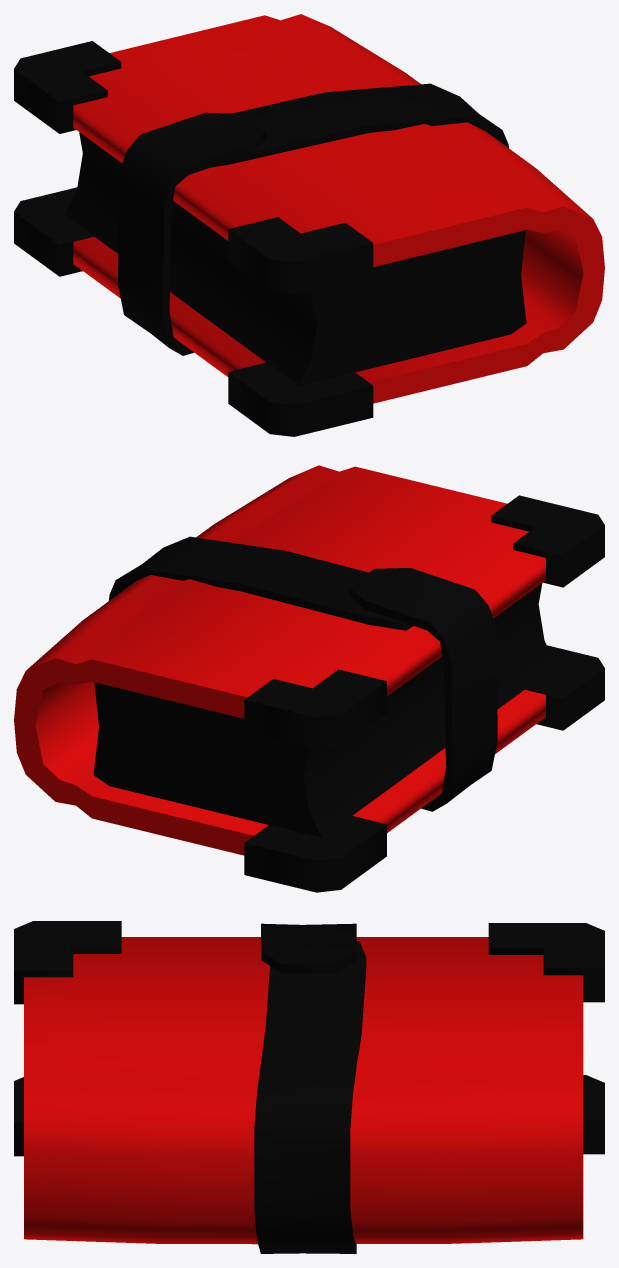
Rendered from Book_D.fbx.
3 views of the same model, one above another, from view 1: azimuth 30°, elevation 25°; view 2: azimuth 150°, elevation 25°; view 3: azimuth 270°, elevation 25° (orthographic). The views are drawn at different scales.
Parts seen in each view (by area): view 1: U_Book_D; view 2: U_Book_D; view 3: U_Book_D.
Boxes of the visible parts, box(x1,y1,x2,y2) form: U_Book_D: box(14, 14, 604, 436); U_Book_D: box(14, 465, 604, 892); U_Book_D: box(14, 921, 604, 1253).
Size of the model in its own units: 45.33 by 23.82 by 61.76.
